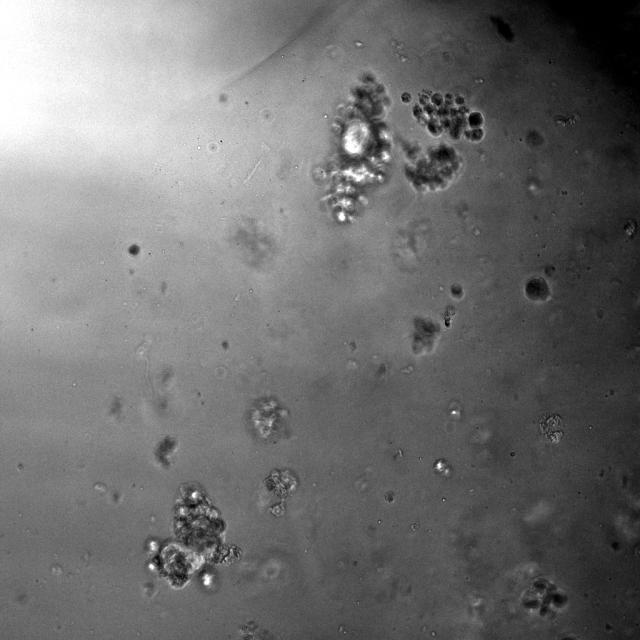organoid: (314, 73, 391, 223), (148, 483, 241, 592), (412, 90, 484, 142), (398, 137, 464, 192), (247, 395, 289, 441), (519, 577, 567, 617), (263, 468, 298, 517), (412, 316, 441, 356), (154, 435, 178, 468), (239, 620, 278, 639), (524, 277, 551, 303), (540, 414, 563, 443), (490, 16, 514, 42), (128, 243, 141, 256), (451, 283, 462, 297), (400, 91, 412, 103), (384, 490, 395, 503)
